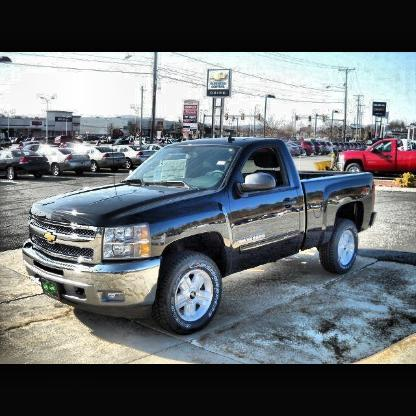Chevrolet Silverado 1500 Regular Cab 2012: (22, 138, 377, 338)
